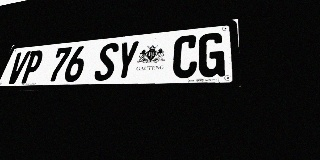6: (62, 45, 89, 82)
7: (46, 47, 72, 83)
C: (171, 34, 199, 78)
G: (197, 32, 225, 78)
P: (19, 50, 45, 84)
S: (93, 42, 120, 81)
V: (5, 51, 31, 84)
Y: (113, 40, 140, 80)
